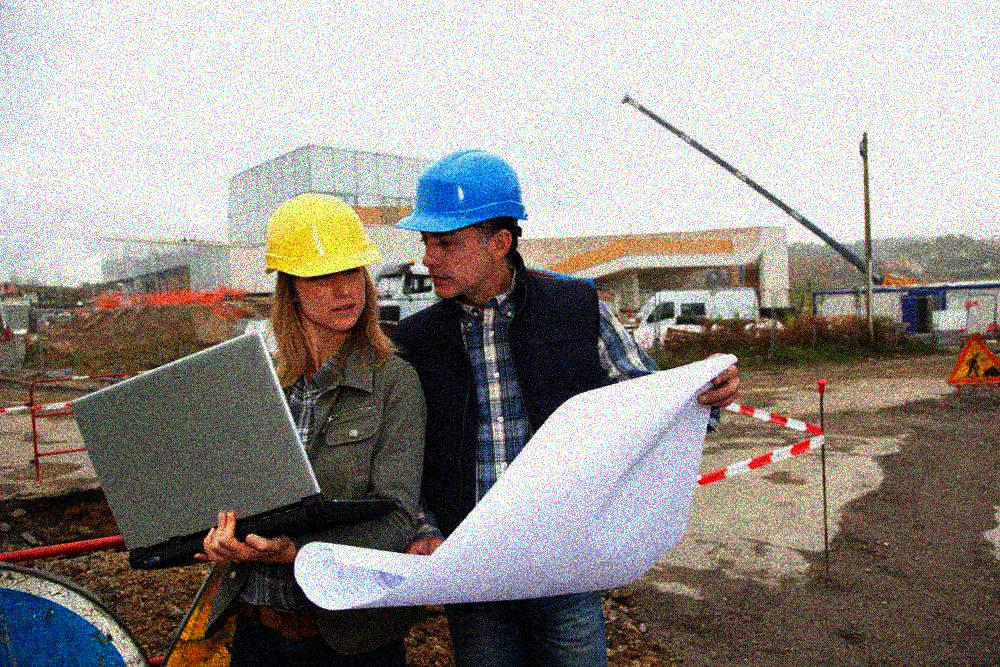helmet: (395, 146, 531, 304), (268, 189, 383, 332)
